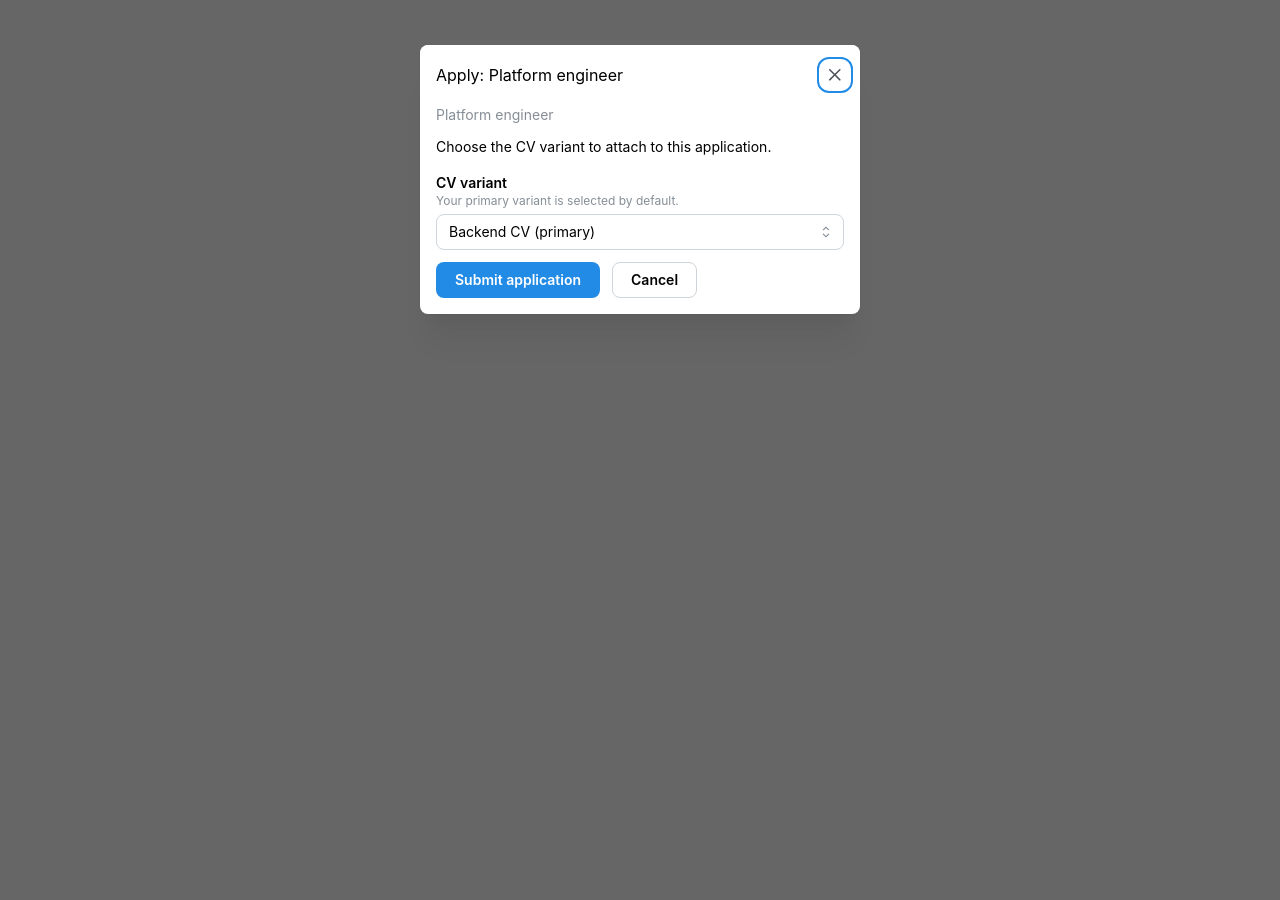
a 200 carrying a redirect_url (Req 14 AC4, AC5) › offers a control that opens the address and states that no Application was recorded
Expected: the dropdown with test id "apply-variant-select" is shown, [436, 214, 844, 250]
What coordinates should you click on to do the following:
click the button with test id "apply-submit"
I would click on:
 (518, 280)
Its box is [436, 262, 600, 298].
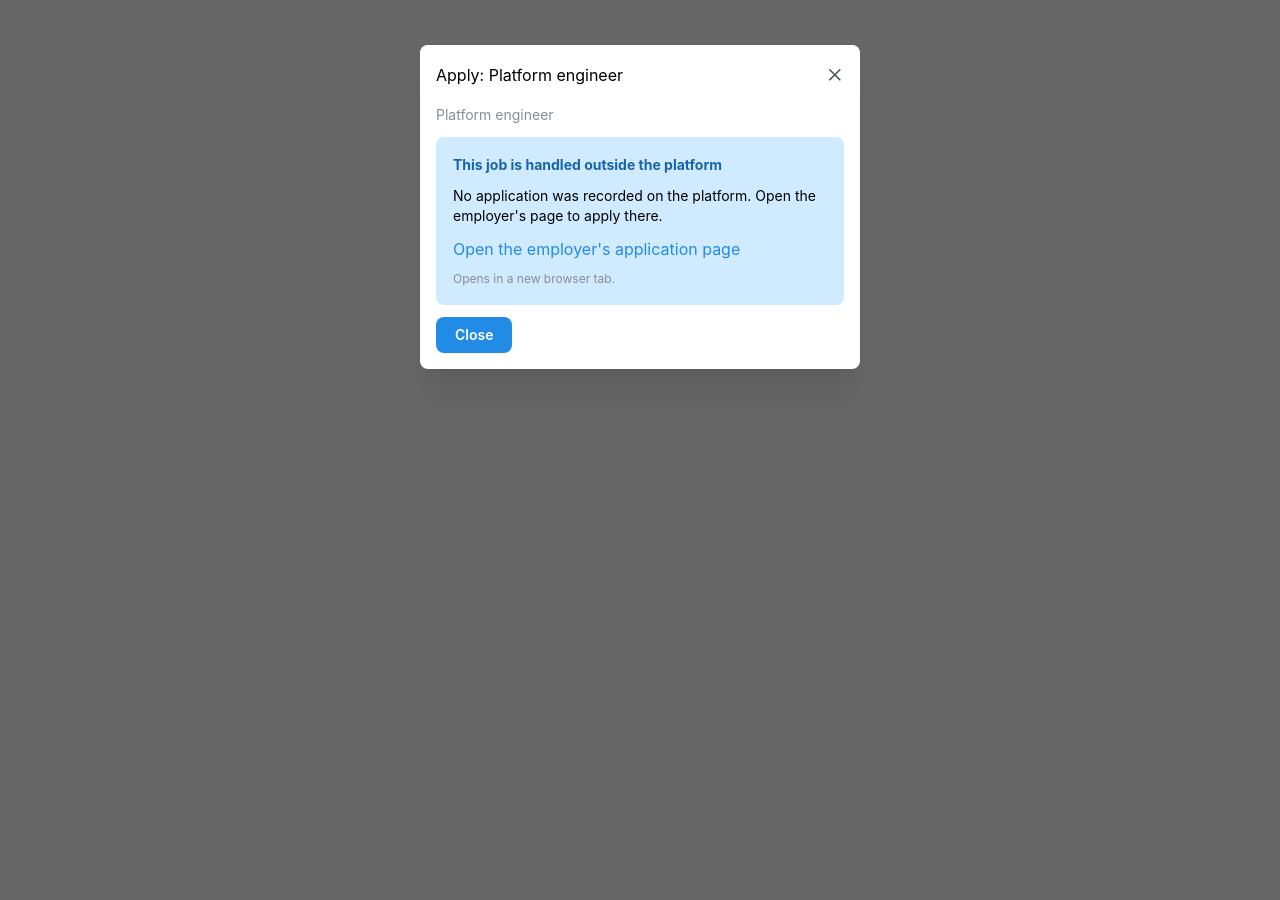
Result: the text with test id "apply-external-not-recorded" shows "No application was recorded on the platform." at [453, 187, 816, 224]
